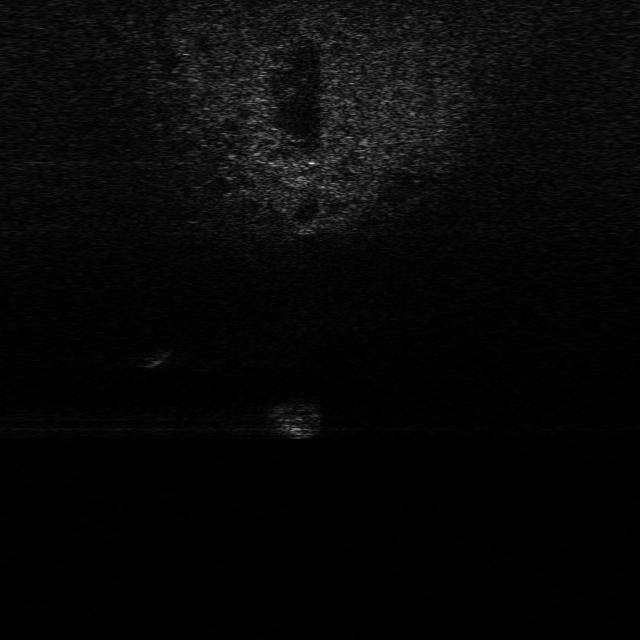circle cage: (259, 394, 322, 442)
cylinder: (140, 345, 174, 370)
